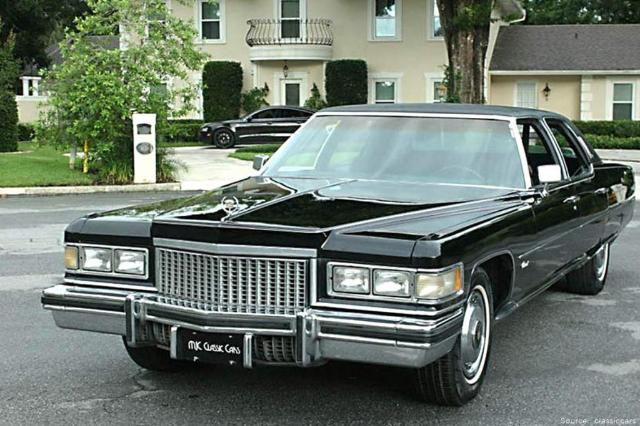cadillac: (40, 103, 636, 407)
